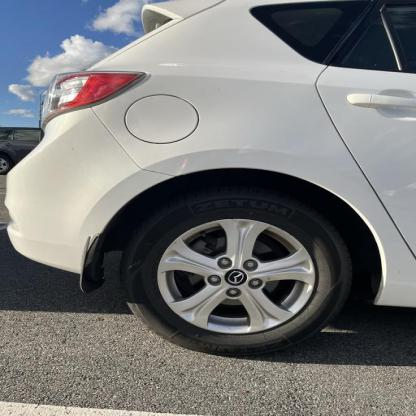Tire: (120, 188, 354, 357)
